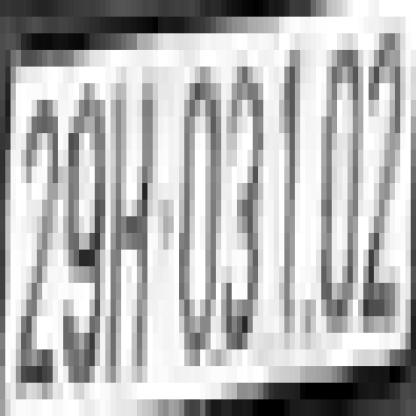0: (316, 50, 358, 299), (179, 50, 211, 349)
1: (263, 67, 300, 316)
2: (16, 100, 58, 383), (358, 34, 400, 300)
3: (216, 67, 258, 332)
9: (64, 100, 106, 349)
H: (111, 84, 158, 350)
